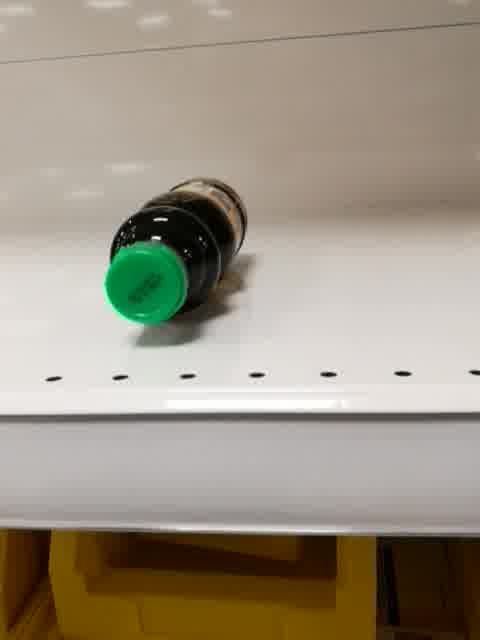cookingoil: (103, 174, 250, 327)
